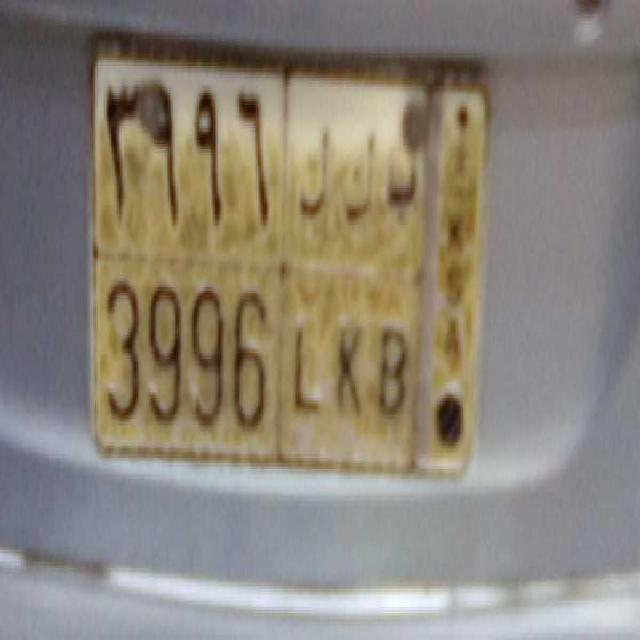license_plate: (100, 252, 410, 468)
